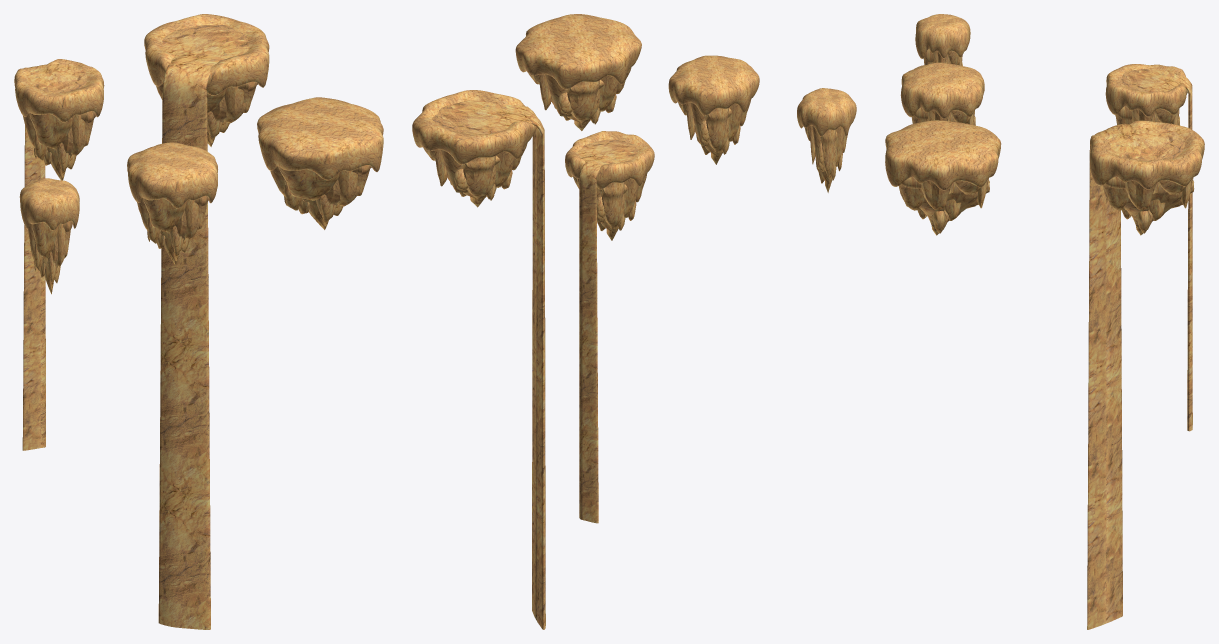
Rendered from Floating_Garden.fbx.
The picture shows the model from 3 angles, left to right: view 1: azimuth 30°, elevation 25°; view 2: azimuth 150°, elevation 25°; view 3: azimuth 270°, elevation 25°; orthographic projection. The views are drawn at different scales.
Visible parts, largest first — view 1: Floating_Land_A.001, Floating_Land_1, Floating_Land_2, Floating_Land_B.001, Floating_Land_A, Floating_Land_B, Floating_Land_3; view 2: Floating_Land_1, Floating_Land_A.001, Floating_Land_B.001, Floating_Land_A, Floating_Land_2, Floating_Land_B, Floating_Land_3; view 3: Floating_Land_A.001, Floating_Land_1, Floating_Land_A, Floating_Land_2, Floating_Land_B, Floating_Land_B.001, Floating_Land_3.
Part boxes in pixels (left/top/right/bottom): Floating_Land_A.001: left=158, top=24, right=249, bottom=629; Floating_Land_1: left=257, top=97, right=383, bottom=229; Floating_Land_2: left=127, top=142, right=217, bottom=265; Floating_Land_B.001: left=22, top=64, right=87, bottom=450; Floating_Land_A: left=144, top=14, right=269, bottom=146; Floating_Land_B: left=14, top=59, right=104, bottom=180; Floating_Land_3: left=19, top=178, right=79, bottom=294; Floating_Land_1: left=515, top=14, right=641, bottom=130; Floating_Land_A.001: left=432, top=100, right=545, bottom=629; Floating_Land_B.001: left=577, top=139, right=639, bottom=523; Floating_Land_A: left=412, top=90, right=536, bottom=207; Floating_Land_2: left=668, top=55, right=759, bottom=164; Floating_Land_B: left=565, top=131, right=654, bottom=240; Floating_Land_3: left=797, top=88, right=856, bottom=192; Floating_Land_A.001: left=1087, top=123, right=1185, bottom=629; Floating_Land_1: left=885, top=120, right=1001, bottom=235; Floating_Land_A: left=1089, top=120, right=1204, bottom=235; Floating_Land_2: left=900, top=62, right=984, bottom=125; Floating_Land_B: left=1105, top=64, right=1187, bottom=125; Floating_Land_B.001: left=1121, top=68, right=1192, bottom=431; Floating_Land_3: left=915, top=14, right=970, bottom=65.
Size of the model in its own units: 166 by 253 by 145.
